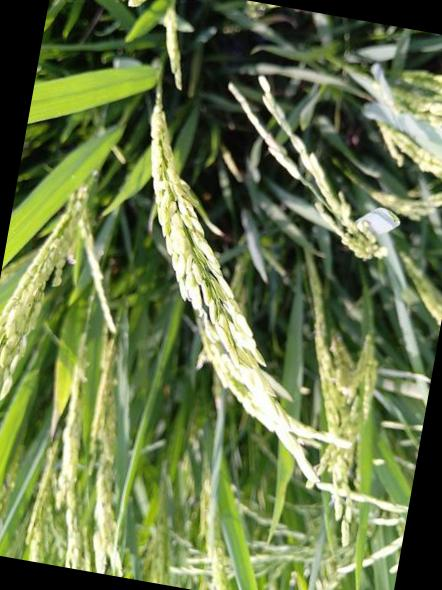Leaf Streak: (49, 350, 75, 439)
